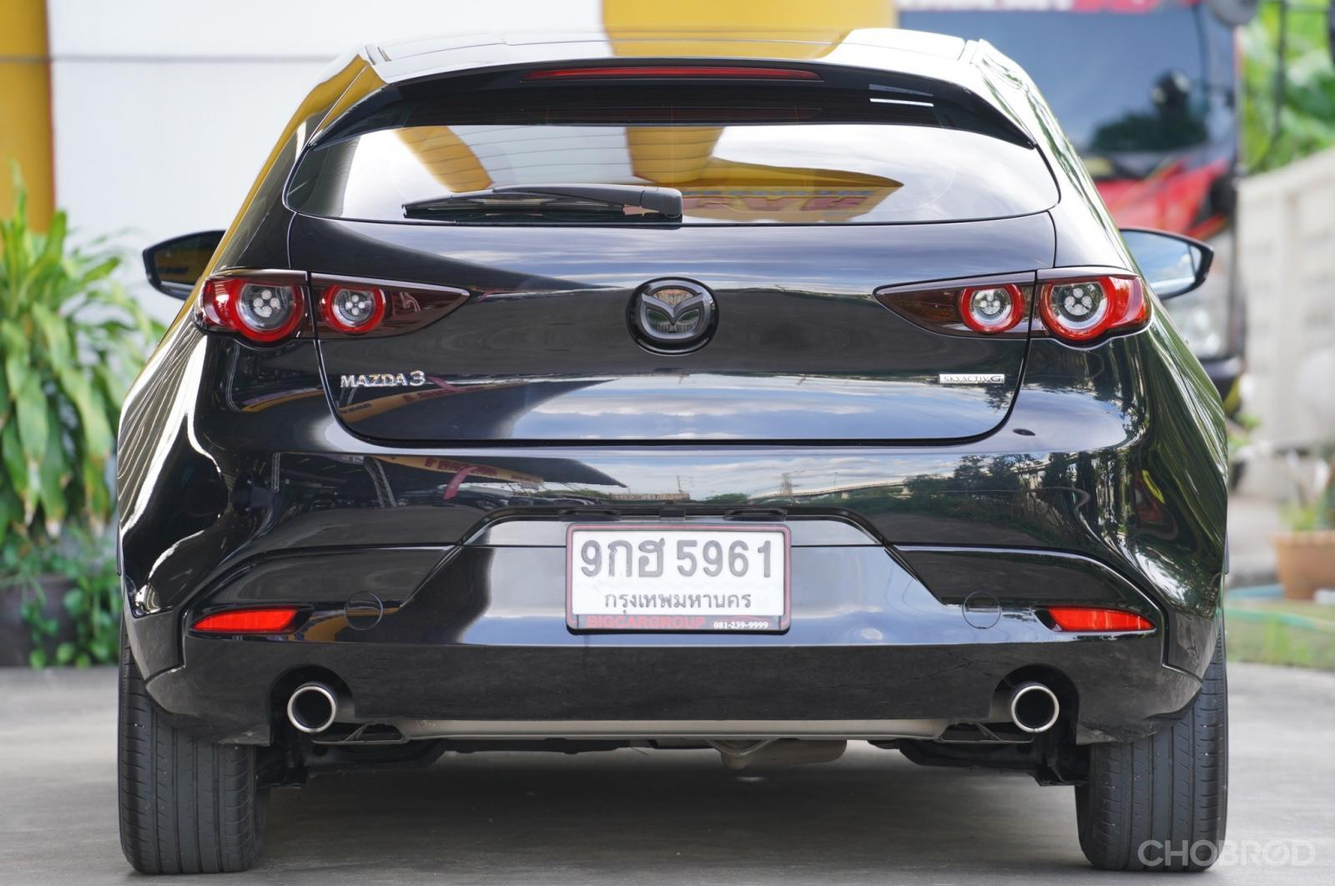license-plate: (559, 511, 796, 641)
